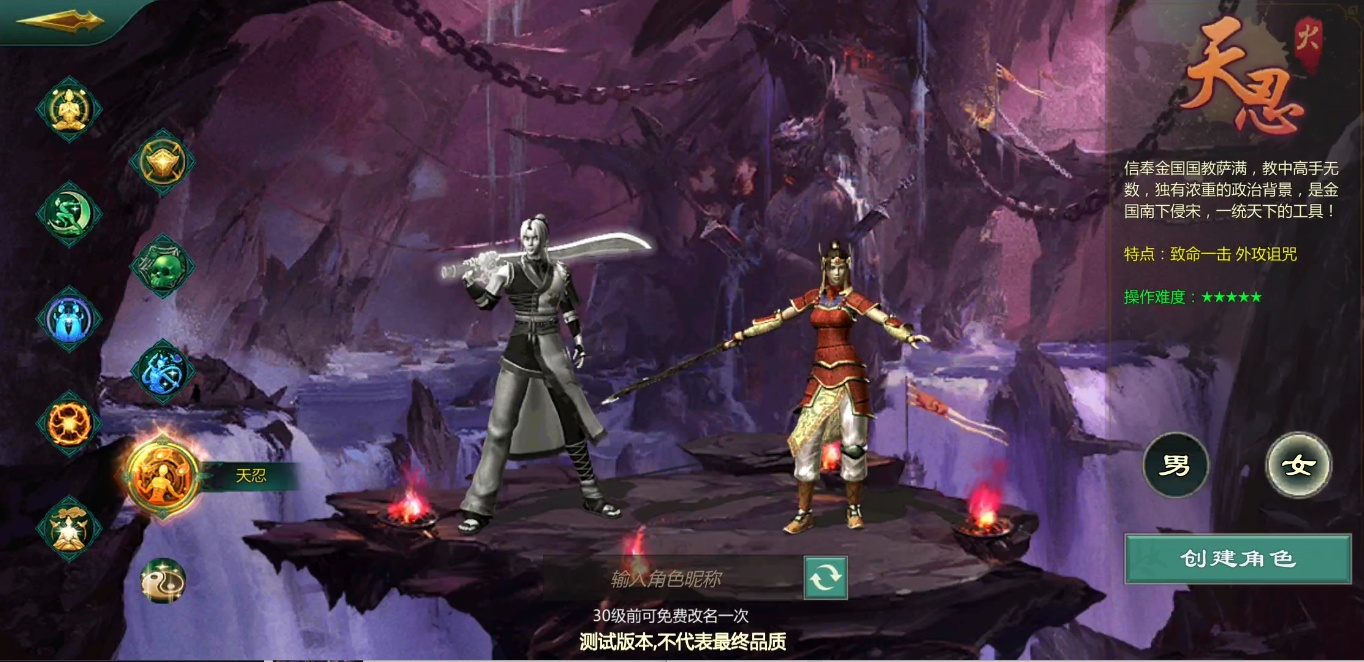cuiyan: (132, 336, 196, 404)
emei: (34, 284, 106, 356)
gaibang: (37, 388, 104, 458)
kunlun: (135, 550, 189, 610)
name: (806, 558, 847, 603)
shaolin: (34, 74, 107, 149)
tangmen: (37, 179, 107, 248)
tianwang: (126, 126, 197, 198)
wudang: (36, 494, 106, 566)
wudu: (127, 231, 199, 303)
